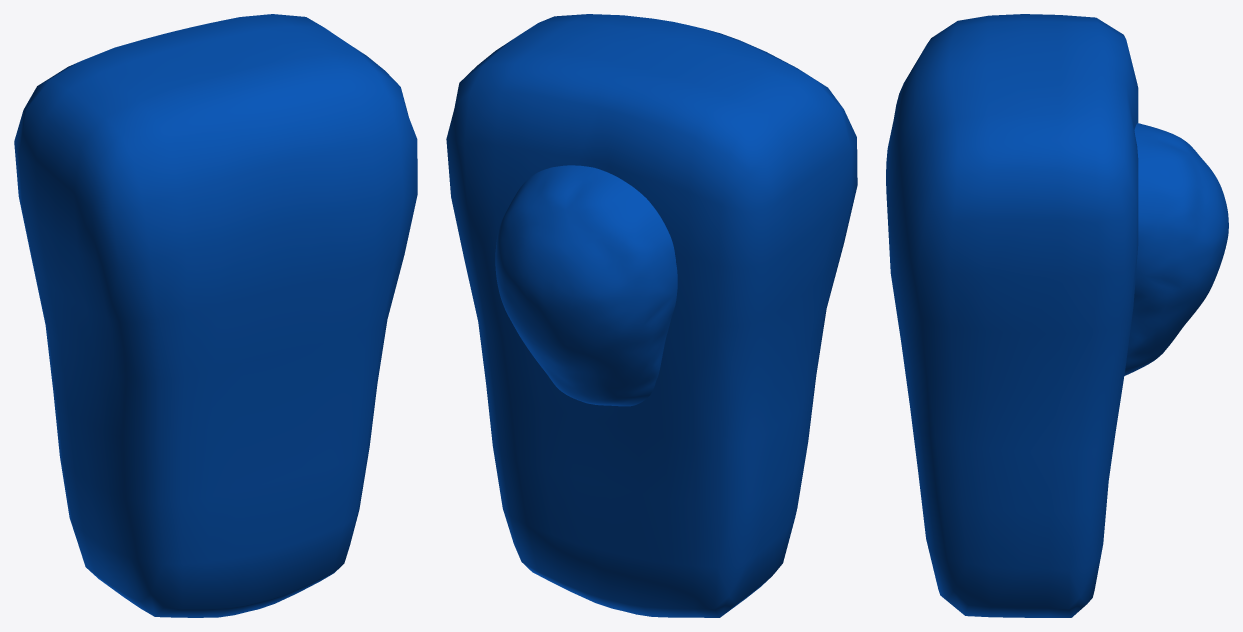
Rendered from avatar_1.FBX.
3 renders of one model, left to right at view 1: azimuth 30°, elevation 25°; view 2: azimuth 150°, elevation 25°; view 3: azimuth 270°, elevation 25°, orthographic. The views are drawn at different scales.
Visible parts, largest first — view 1: Box001; view 2: Box001, glowa; view 3: Box001, glowa.
Part boxes in pixels (x1,y1,x2,y2): Box001: [14, 14, 417, 617]; Box001: [446, 14, 857, 617]; glowa: [495, 165, 677, 406]; Box001: [886, 14, 1138, 617]; glowa: [1124, 123, 1228, 375].
Size of the model in its own units: 3.3 by 5.2 by 3.07.
